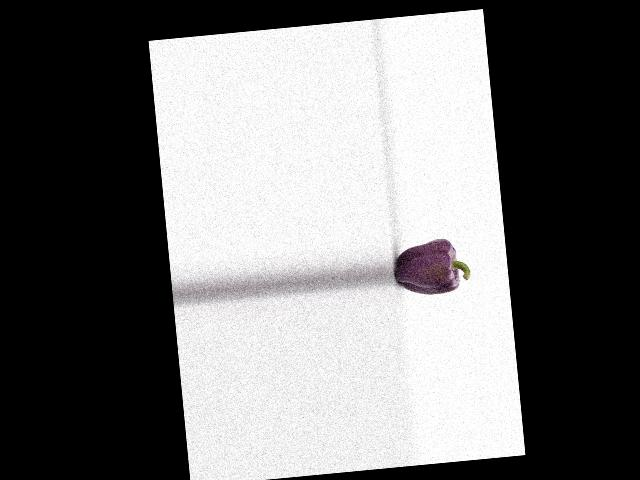bell_pepper: (392, 232, 471, 303)
